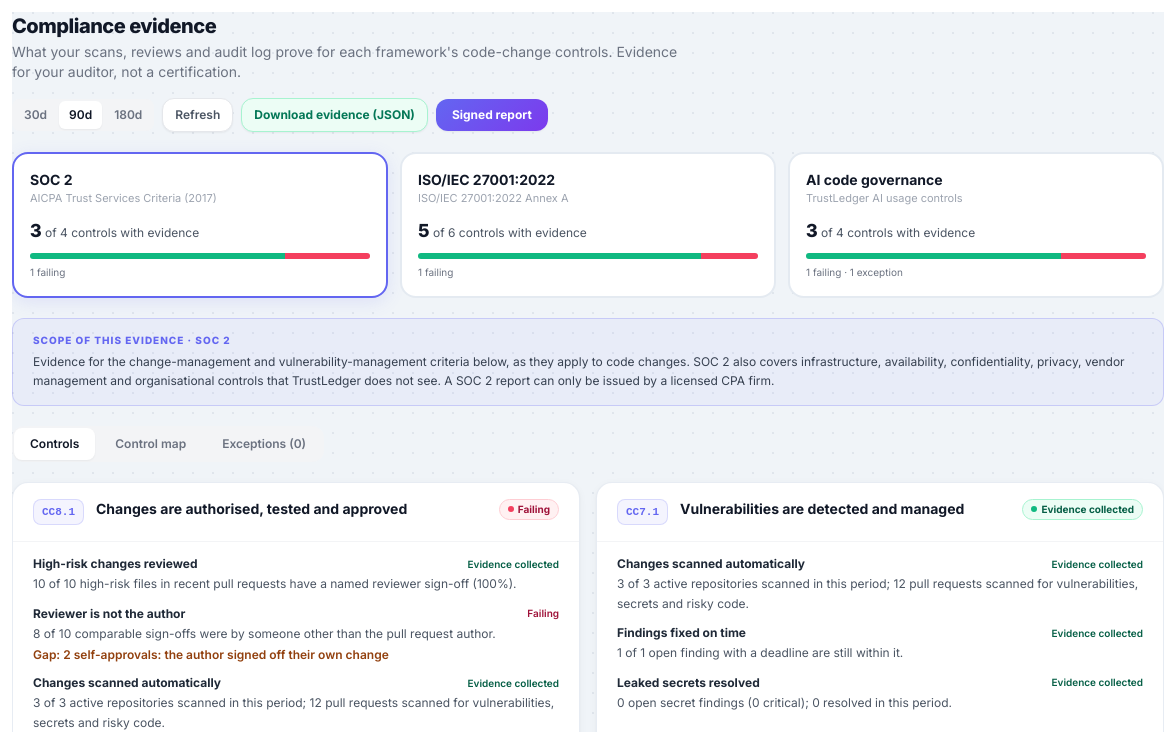
Test: Compliance evidence page › control map shows which control each check evidences, per framework
Expected: the text "Changes are authorised, tested and approved" is shown, [96,498,407,518]
Click the tab "Control map": {"x": 151, "y": 444} [99,428,202,460]
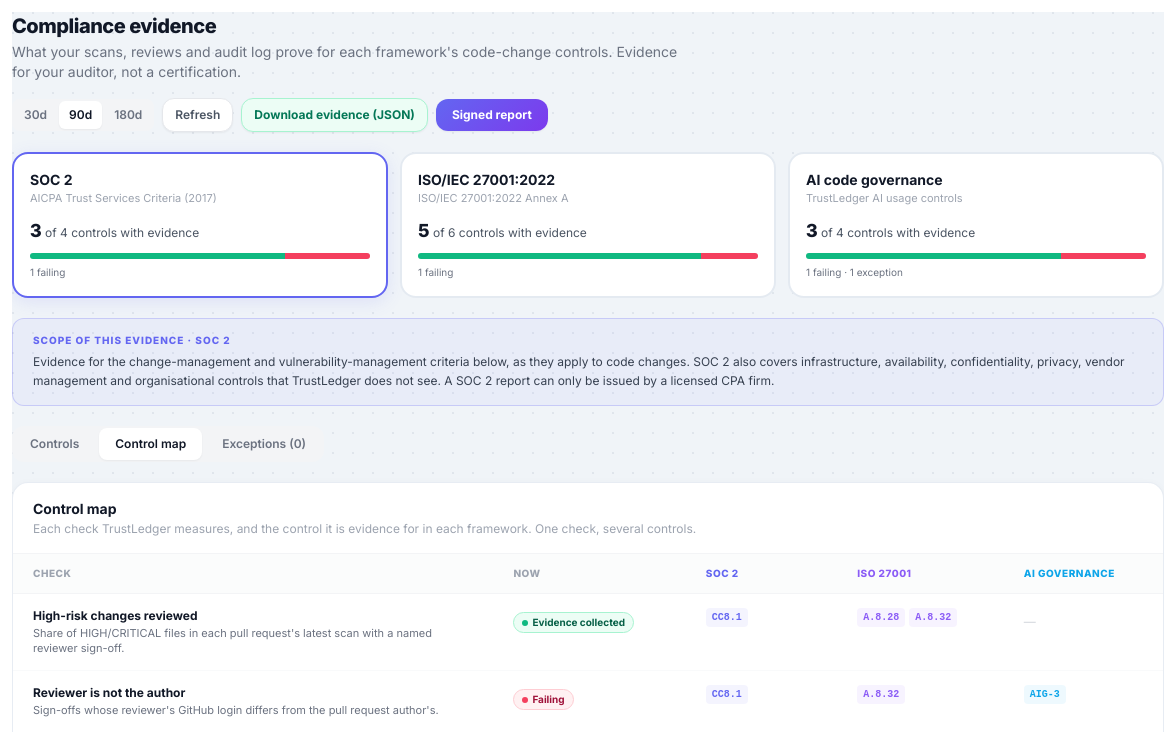
Expected: the text "CC8.1" in the row of "Reviewer is not the author" is shown, [712,689,742,700]
Expected: the text "A.8.32" in the row of "Reviewer is not the author" is shown, [863,689,899,700]
Expected: the text "AIG-3" is shown, [1024,685,1066,704]
